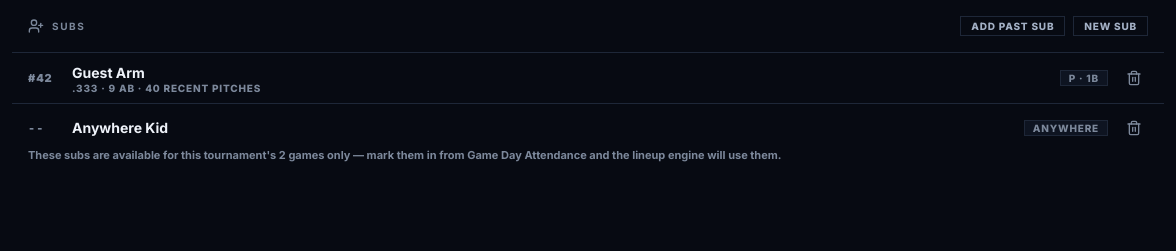
Test: TournamentSubsPanel › does not offer subs already on this tournament
The width and height of the screenshot is (1176, 251).
Step 1. Click the button "Add past sub" → coordinates (1013, 26), box x1=960 y1=16 x2=1065 y2=36
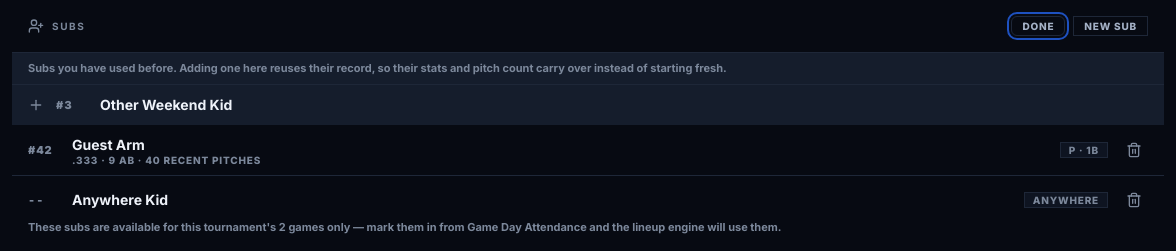
Expected: the text "Other Weekend Kid" is shown, x1=100 y1=95 x2=232 y2=115
